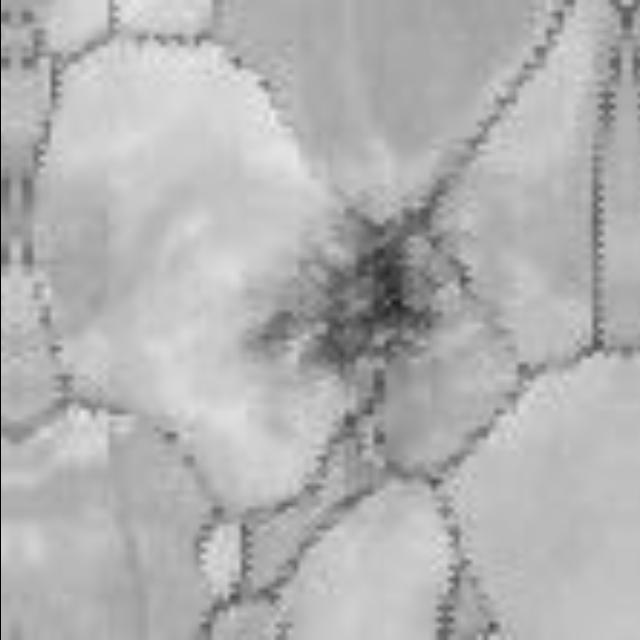good_void: (239, 201, 439, 388)
